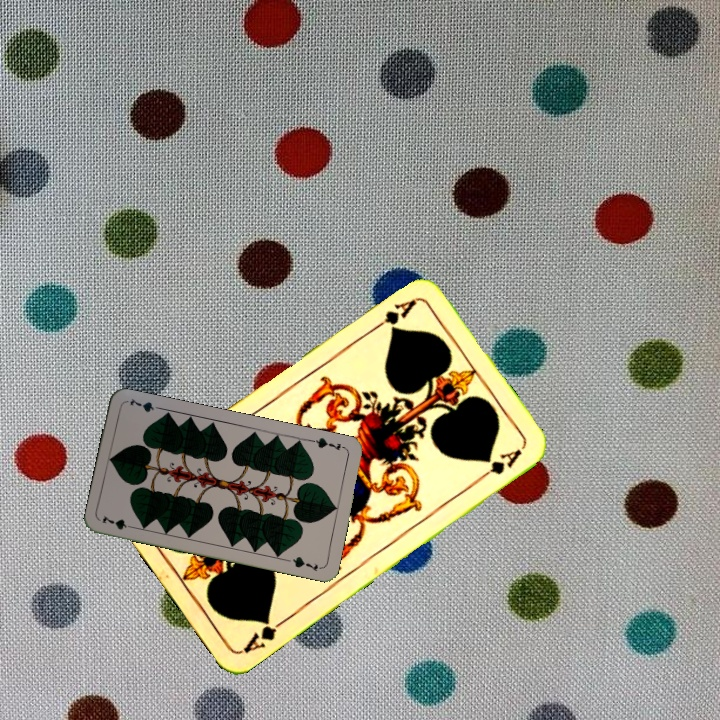G7: (308, 433, 348, 454), (98, 512, 138, 532)
GA: (238, 614, 290, 656), (366, 295, 419, 335)
